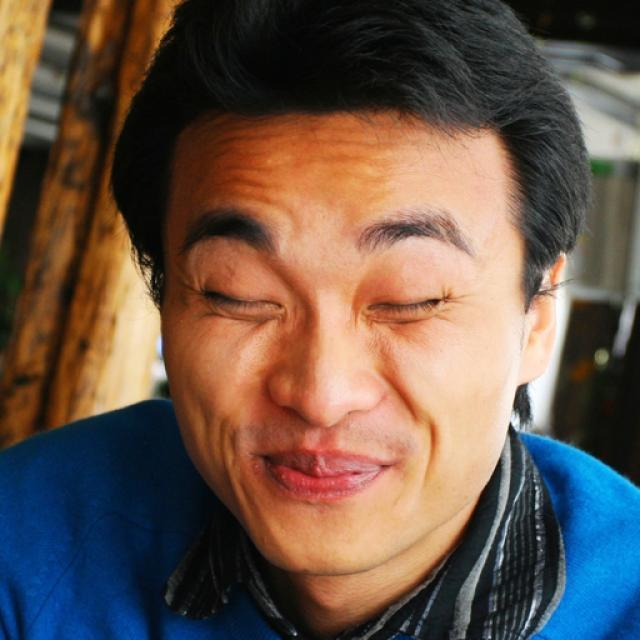disgust: (155, 93, 521, 576)
